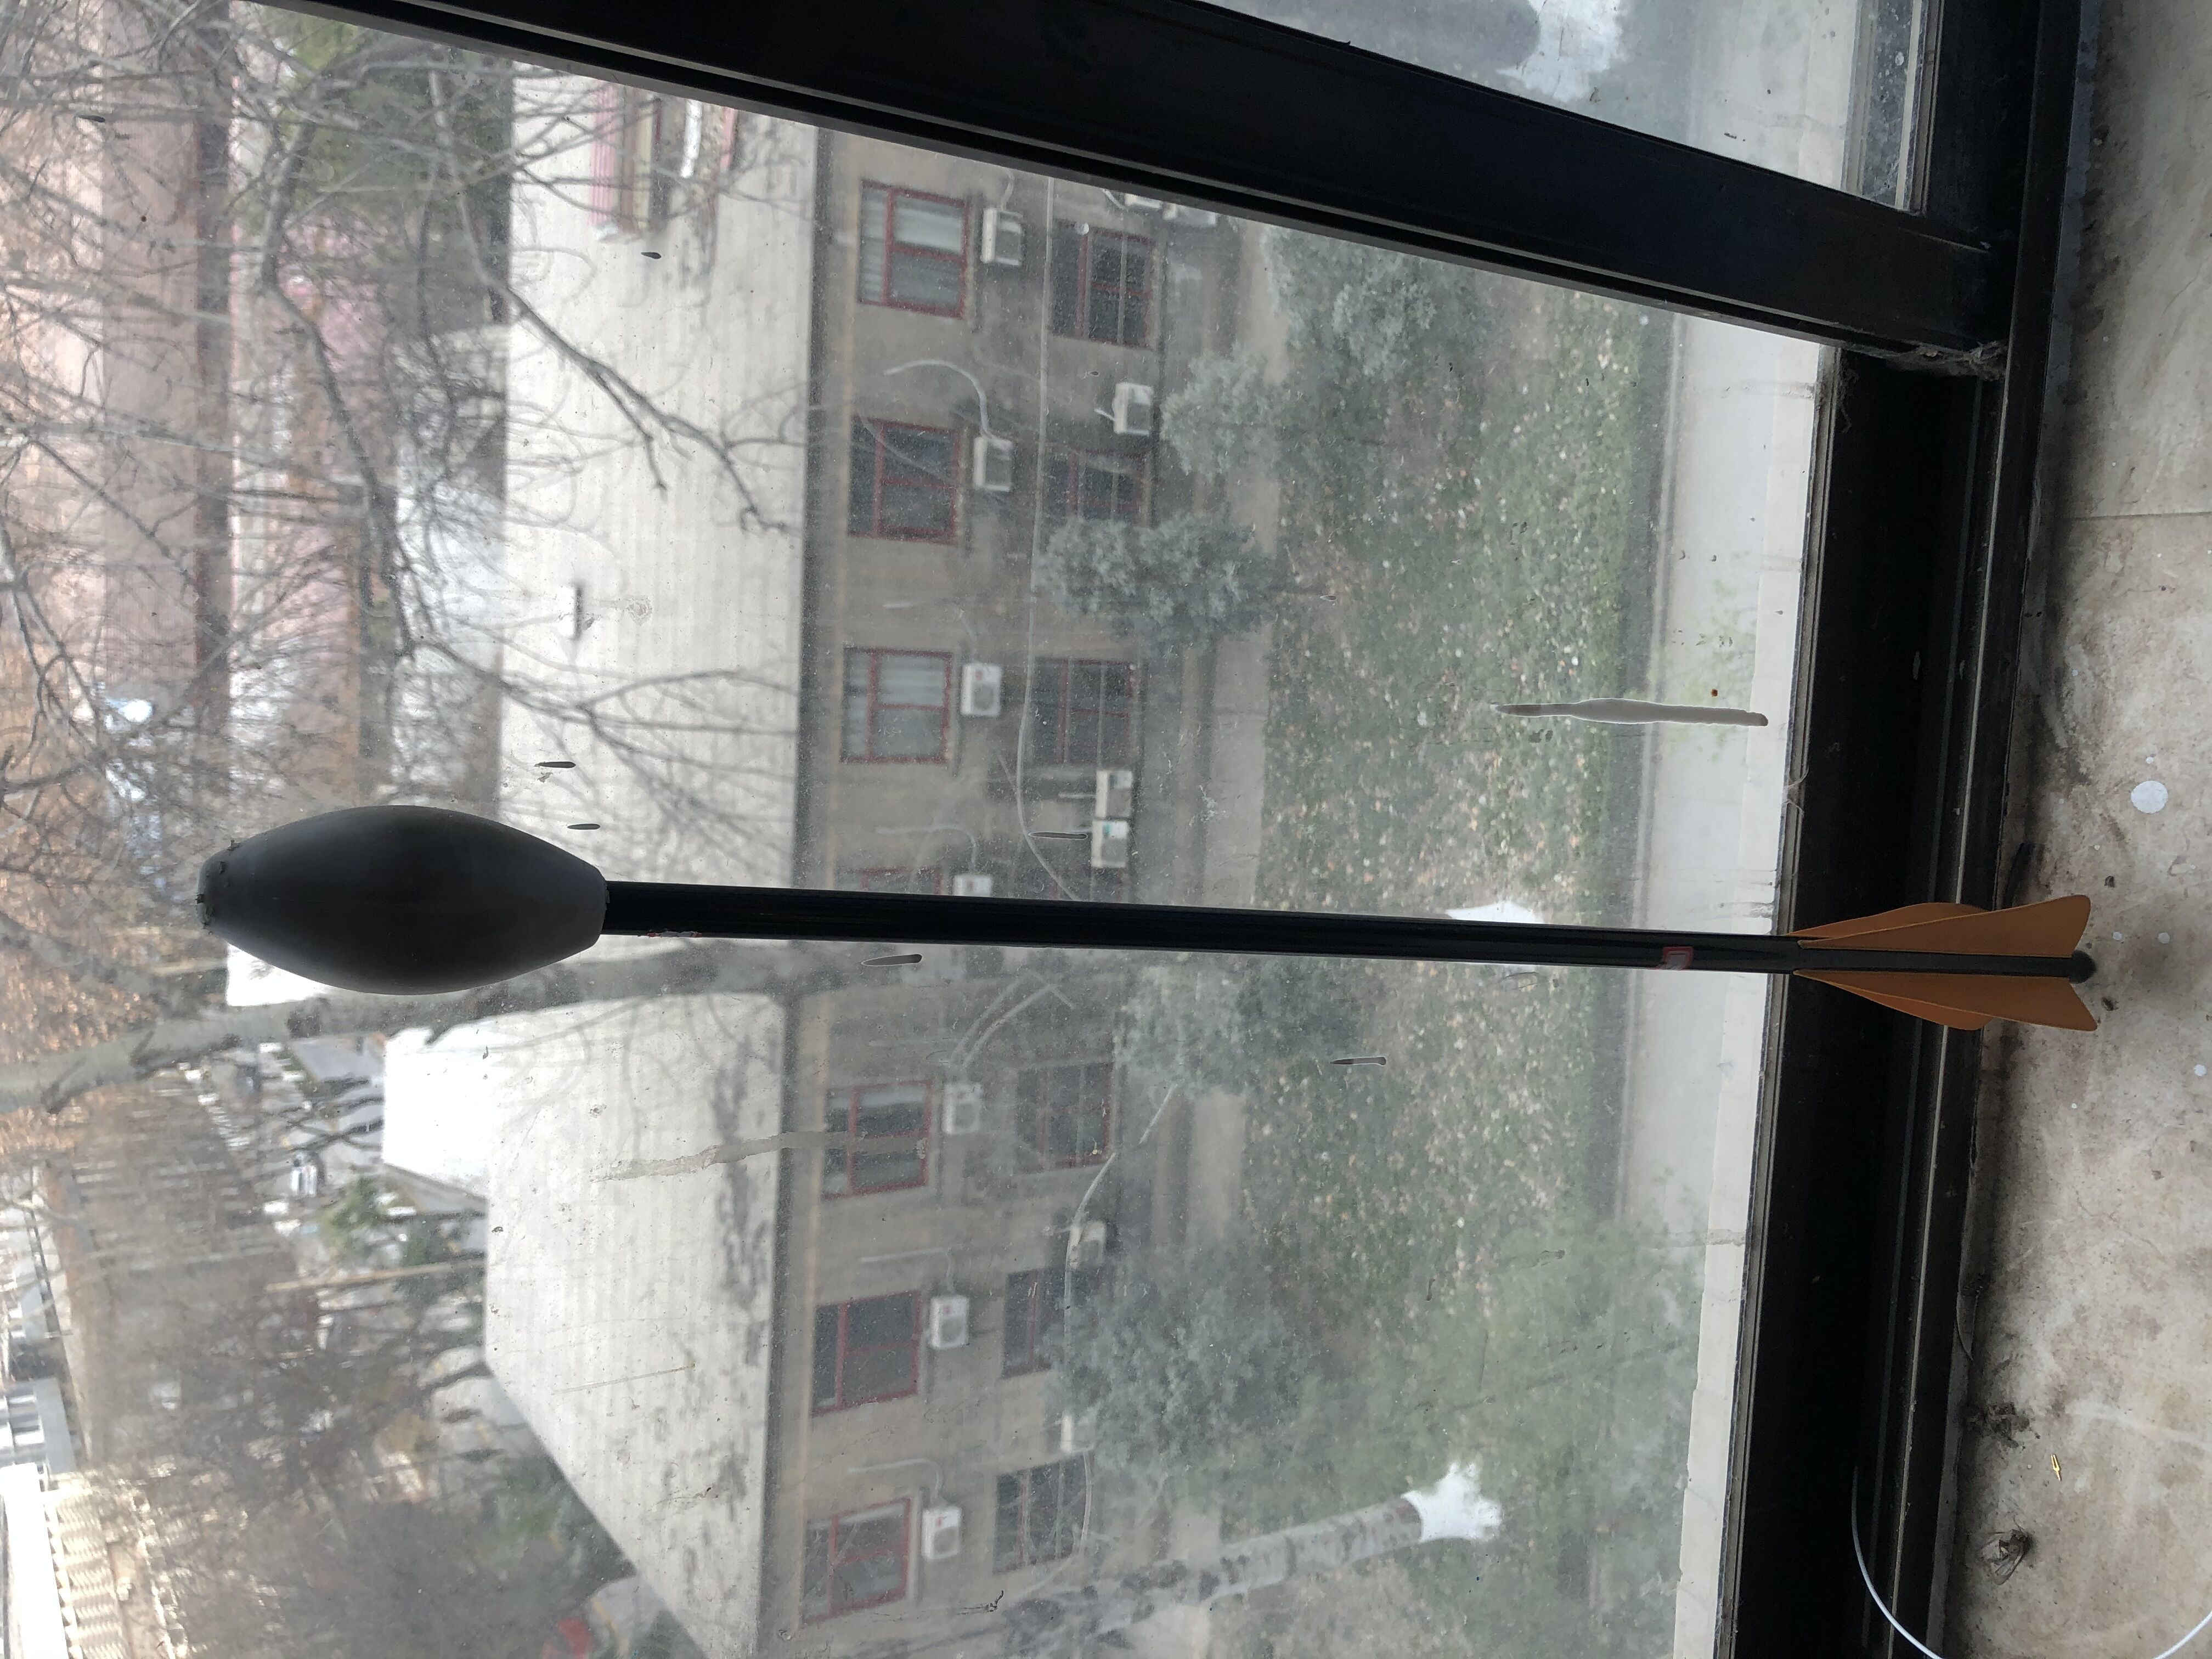arrow: (197, 802, 2104, 1030)
arrowFront: (195, 803, 613, 1032)
